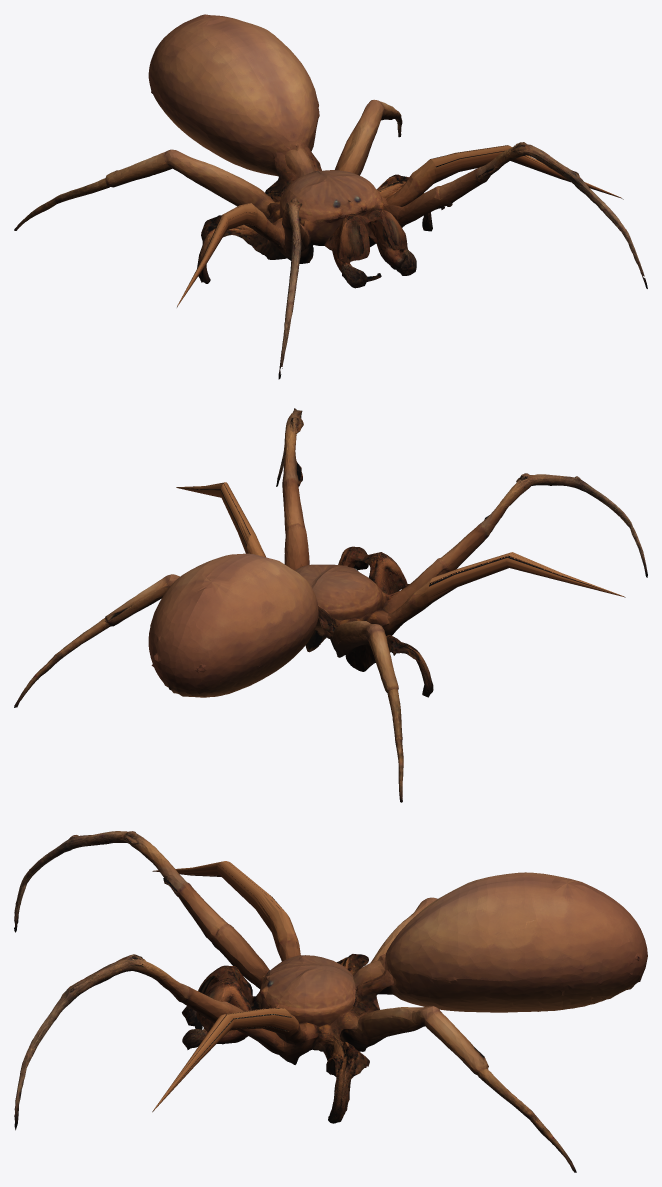
3 renders of one model, top to bottom at view 1: azimuth 30°, elevation 25°; view 2: azimuth 150°, elevation 25°; view 3: azimuth 270°, elevation 25°, orthographic. The views are drawn at different scales.
Visible parts, largest first — view 1: world; view 2: world; view 3: world.
Part boxes in pixels (x1,y1,x2,y2): world: (14, 14, 647, 379); world: (14, 408, 647, 802); world: (14, 831, 647, 1172).
Bounding box in the file's own units: 0.896 × 0.3285 × 0.9966.
2 materials, 2 textured.
